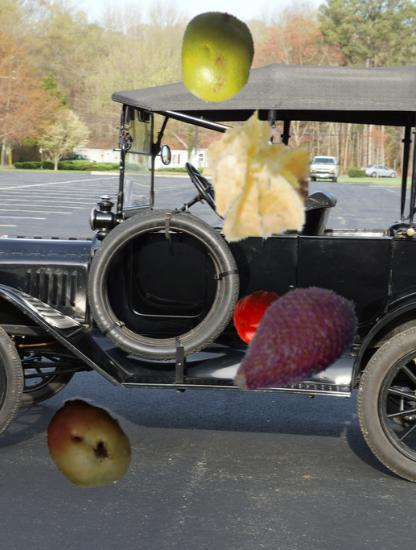Papaya: (40, 397, 135, 492)
Physalis: (186, 105, 327, 246)
Pomelo: (169, 10, 263, 104)
Salak: (219, 265, 368, 414)
Tomato: (233, 291, 295, 353)
